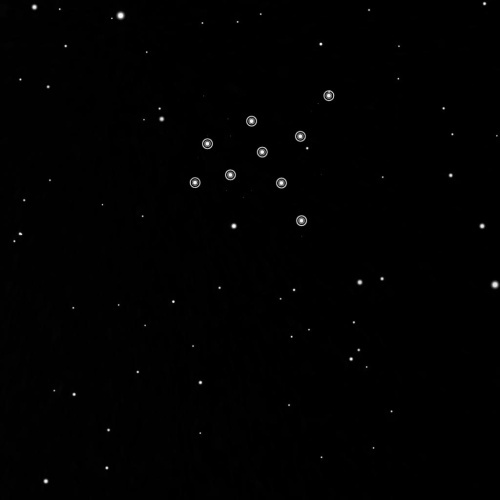cygnus: (186, 85, 336, 230)
